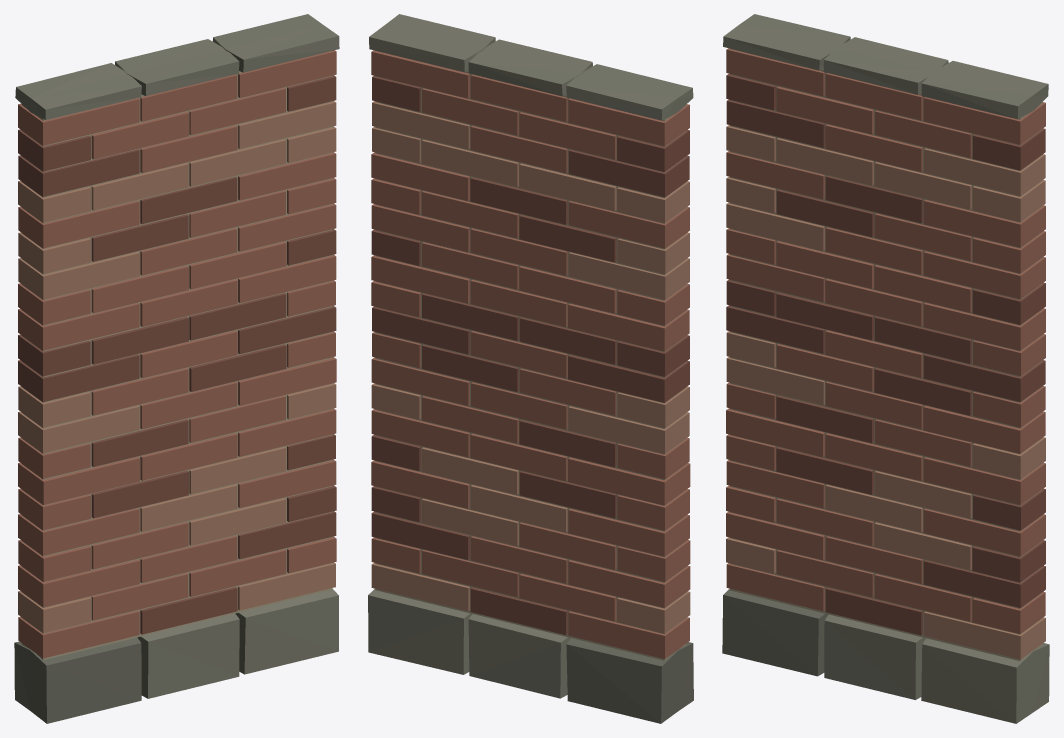
Rendered from wall_brick.glb.
3 renders of one model, left to right at view 1: azimuth 30°, elevation 25°; view 2: azimuth 150°, elevation 25°; view 3: azimuth 330°, elevation 25°, orthographic.
Visible parts, largest first — view 1: Wall_Brick; view 2: Wall_Brick; view 3: Wall_Brick.
Boxes of the visible parts, <box> form: Wall_Brick: <box>14,14,339,723</box>; Wall_Brick: <box>368,14,693,723</box>; Wall_Brick: <box>722,14,1049,723</box>.
Bounding box in the file's own units: 1.52 × 3.05 × 0.2917.
